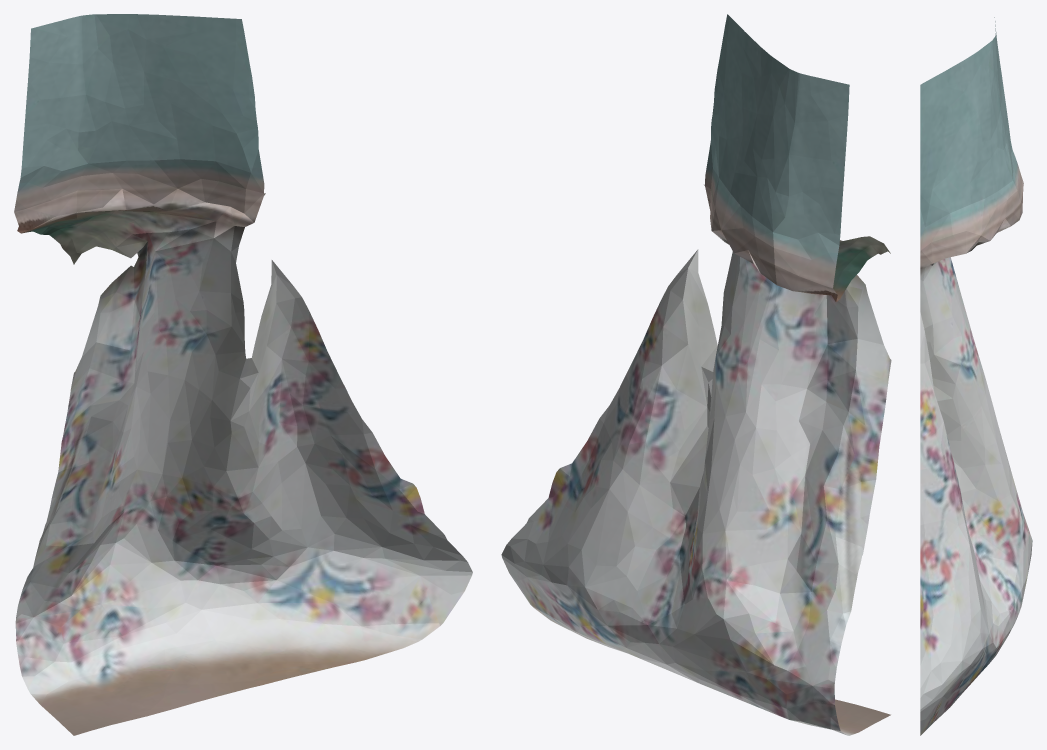
3 renders of one model, left to right at view 1: azimuth 30°, elevation 25°; view 2: azimuth 150°, elevation 25°; view 3: azimuth 270°, elevation 25°, orthographic. The views are drawn at different scales.
Bounding box in the file's own units: 144 × 233 × 40.56.
1 material, 1 textured.
